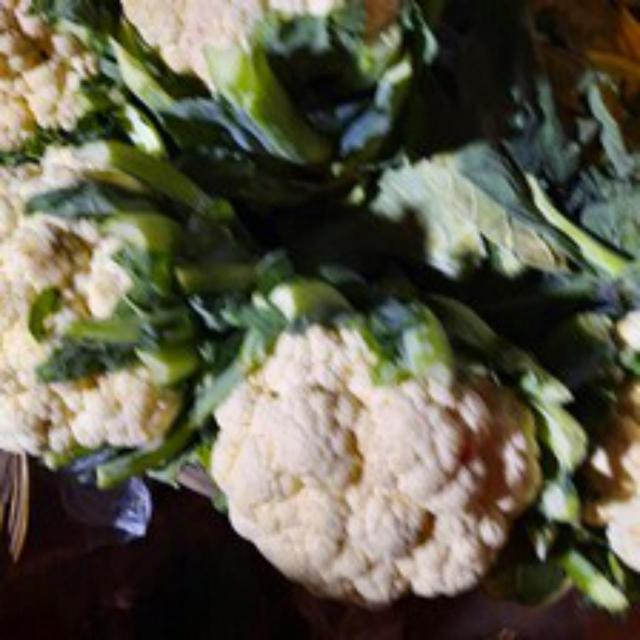cauliflower: (192, 281, 532, 604)
